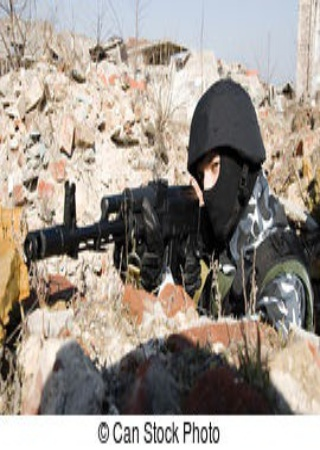rifle: (26, 171, 199, 291)
